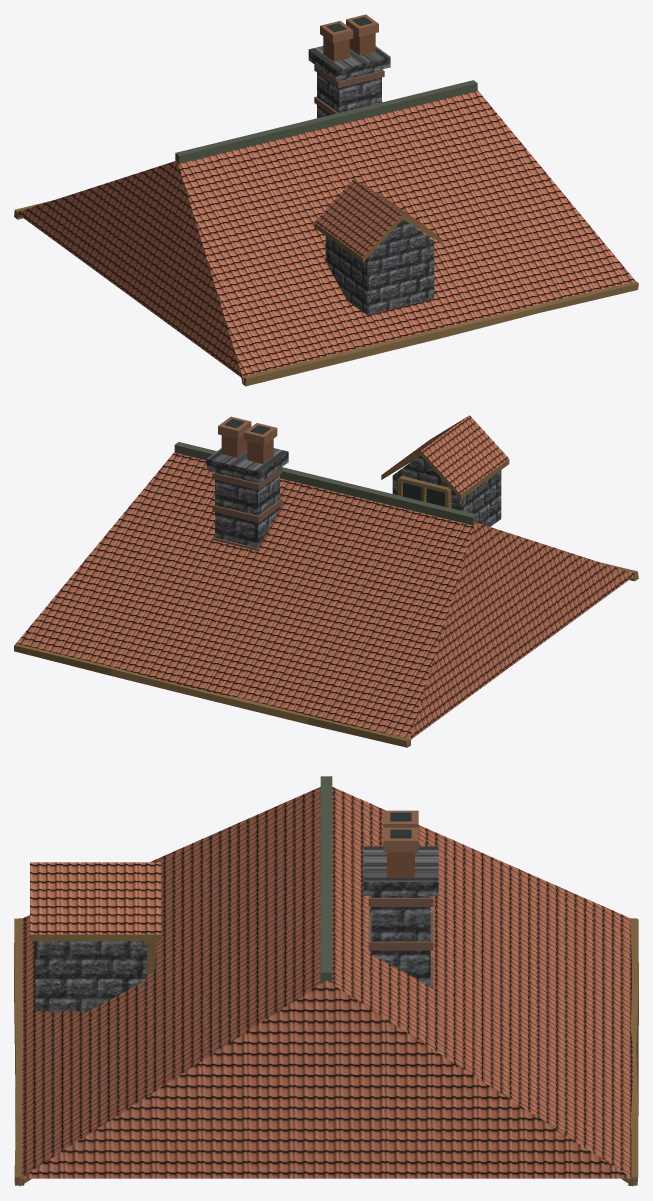
File: town_Roof_02_halfhip.glb
3 renders of one model, top to bottom at view 1: azimuth 30°, elevation 25°; view 2: azimuth 150°, elevation 25°; view 3: azimuth 270°, elevation 25°, orthographic. The views are drawn at different scales.
Parts seen in each view (by area): view 1: town_Roof_02_halfhip.005; view 2: town_Roof_02_halfhip.005; view 3: town_Roof_02_halfhip.005.
Part boxes in pixels (<box>): town_Roof_02_halfhip.005: <box>14,14,638,386</box>; town_Roof_02_halfhip.005: <box>14,415,638,747</box>; town_Roof_02_halfhip.005: <box>14,776,638,1186</box>.
Size of the model in its own units: 7 by 3.34 by 7.13.
3 materials, 2 textured.
